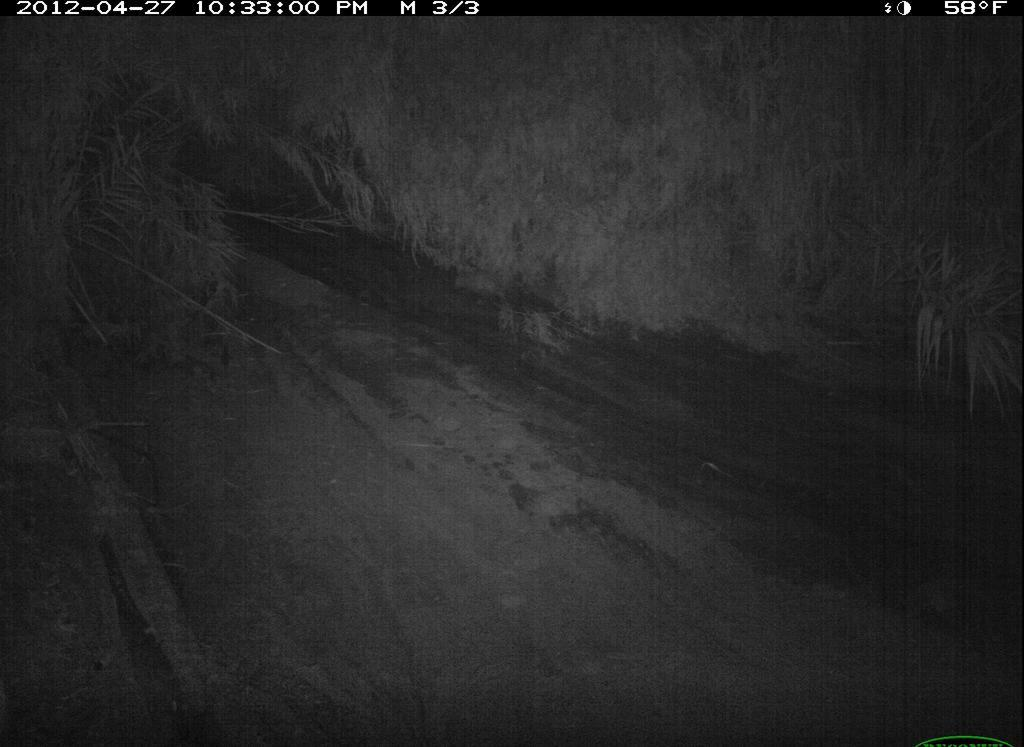opossum: (894, 527, 1024, 624)
